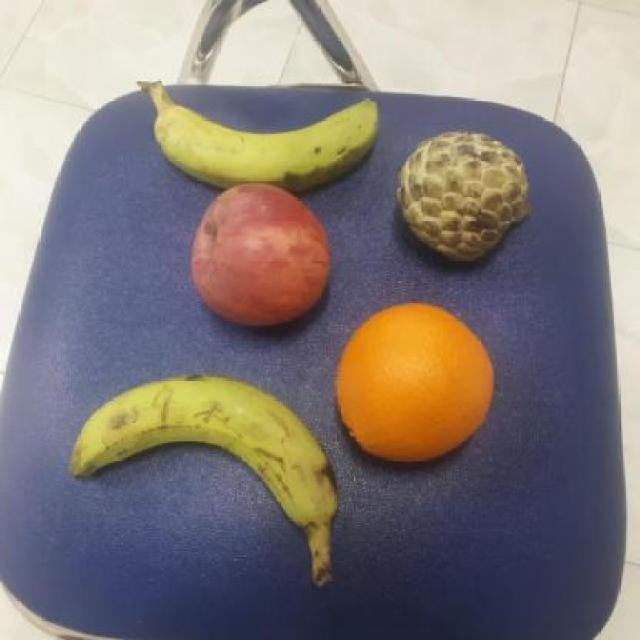apple: (186, 181, 334, 327)
banana: (68, 371, 343, 532), (149, 88, 392, 192)
oren: (333, 302, 499, 463)
sugar apple: (390, 128, 530, 264)
